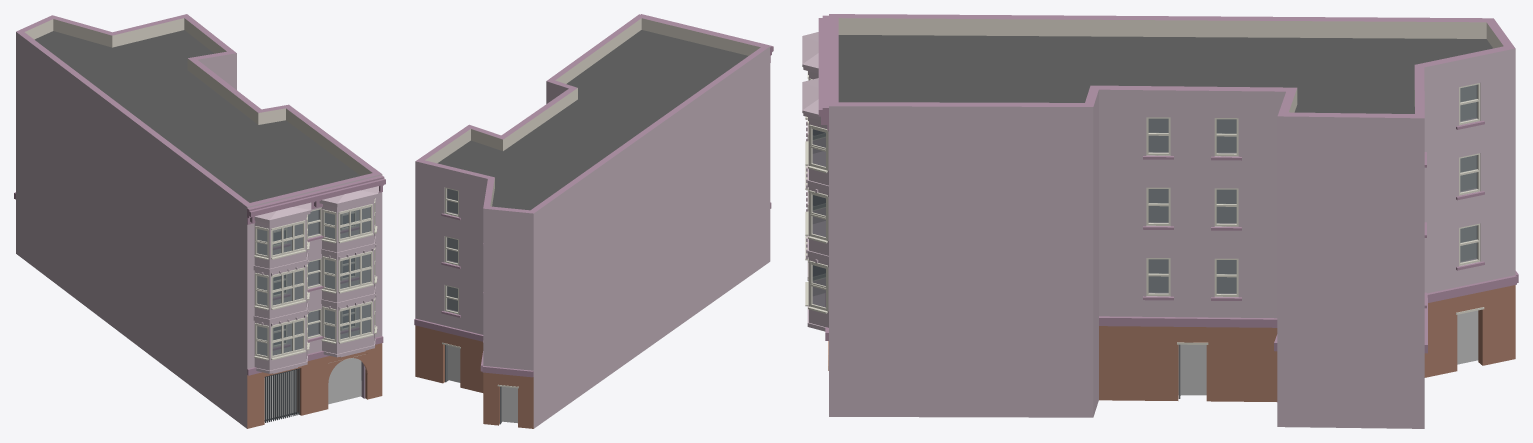
The model's file is exterior.glb.
3 renders of one model, left to right at view 1: azimuth 30°, elevation 25°; view 2: azimuth 150°, elevation 25°; view 3: azimuth 270°, elevation 25°, orthographic. The views are drawn at different scales.
Parts seen in each view (by area): view 1: shell, roof, bay-glazing-hyb, bay-windows-hyb, shadow-proxy, trim, storefront, glazing, frames; view 2: shell, roof, shadow-proxy, trim, glazing, frames; view 3: shell, roof, shadow-proxy, glazing, trim, bay-windows-hyb, frames, bay-glazing-hyb.
Part boxes in pixels (x1,y1,x2,y2): shell: (16, 14, 382, 428); roof: (34, 30, 360, 202); bay-glazing-hyb: (254, 198, 377, 360); bay-windows-hyb: (253, 186, 378, 373); shadow-proxy: (257, 207, 370, 419); trim: (14, 175, 385, 375); storefront: (264, 354, 365, 422); glazing: (274, 209, 362, 380); frames: (273, 208, 355, 347); shell: (415, 14, 770, 428); roof: (437, 30, 747, 210); shadow-proxy: (448, 189, 517, 423); trim: (414, 14, 773, 377); glazing: (447, 189, 457, 311); frames: (444, 187, 458, 314); shell: (829, 14, 1515, 428); roof: (838, 35, 1492, 113); shadow-proxy: (1149, 85, 1478, 395); glazing: (1148, 85, 1477, 293); trim: (818, 15, 1518, 353); bay-windows-hyb: (802, 32, 828, 331); frames: (1146, 83, 1480, 296); bay-glazing-hyb: (805, 71, 828, 313).
Bounding box in the file's own units: 8.69 × 12.06 × 25.21.
